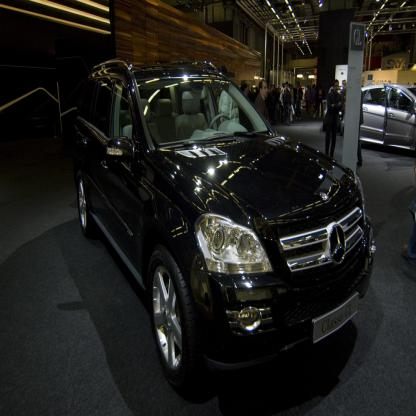Car: (72, 59, 376, 385), (340, 84, 415, 152)
